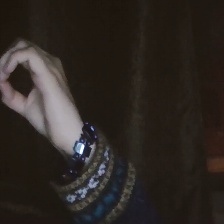O: (1, 29, 86, 147)
